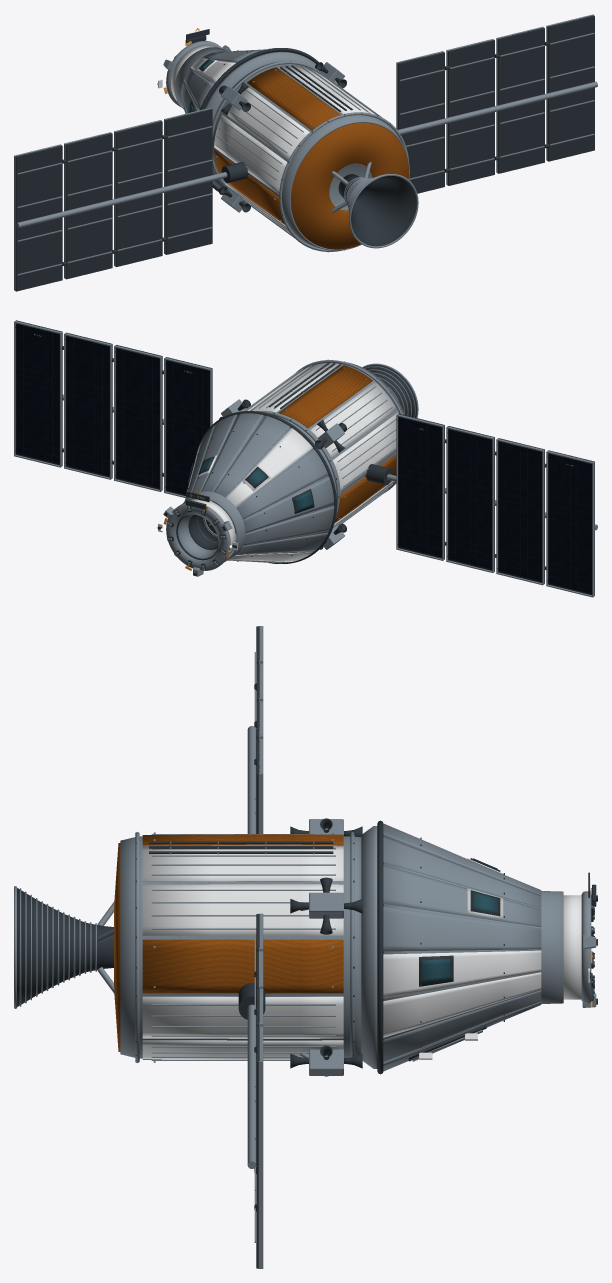
File: OrbiterLOD0.fbx
3 views of the same model, one above another, from view 1: azimuth 30°, elevation 25°; view 2: azimuth 150°, elevation 25°; view 3: azimuth 270°, elevation 25° (orthographic). The views are drawn at different scales.
Visible parts, largest first — view 1: LOD0__Orb_Graphite, LOD0__Orb_Silver, LOD0__Orb_GoldMLI, LOD0__Orb_White; view 2: LOD0__Orb_Solar, LOD0__Orb_Silver, LOD0__Orb_Graphite, LOD0__Orb_White, LOD0__Orb_GoldMLI, LOD0__Orb_Glass; view 3: LOD0__Orb_Silver, LOD0__Orb_White, LOD0__Orb_Graphite, LOD0__Orb_GoldMLI, LOD0__Orb_Glass.
Part boxes in pixels (left/top/right/bottom): LOD0__Orb_Graphite: left=15, top=15, right=594, bottom=291; LOD0__Orb_Silver: left=14, top=14, right=597, bottom=290; LOD0__Orb_GoldMLI: left=214, top=67, right=408, bottom=249; LOD0__Orb_White: left=158, top=45, right=375, bottom=232; LOD0__Orb_Solar: left=16, top=324, right=592, bottom=593; LOD0__Orb_Silver: left=14, top=321, right=597, bottom=597; LOD0__Orb_Graphite: left=15, top=320, right=594, bottom=595; LOD0__Orb_White: left=34, top=334, right=573, bottom=561; LOD0__Orb_GoldMLI: left=279, top=365, right=396, bottom=522; LOD0__Orb_Glass: left=188, top=457, right=313, bottom=511; LOD0__Orb_Silver: left=14, top=626, right=596, bottom=1268; LOD0__Orb_White: left=142, top=823, right=590, bottom=1059; LOD0__Orb_Graphite: left=17, top=626, right=597, bottom=1268; LOD0__Orb_GoldMLI: left=114, top=834, right=343, bottom=1059; LOD0__Orb_Glass: left=422, top=858, right=497, bottom=983.
Bounding box in the file's own units: 1621 × 399 × 918.
